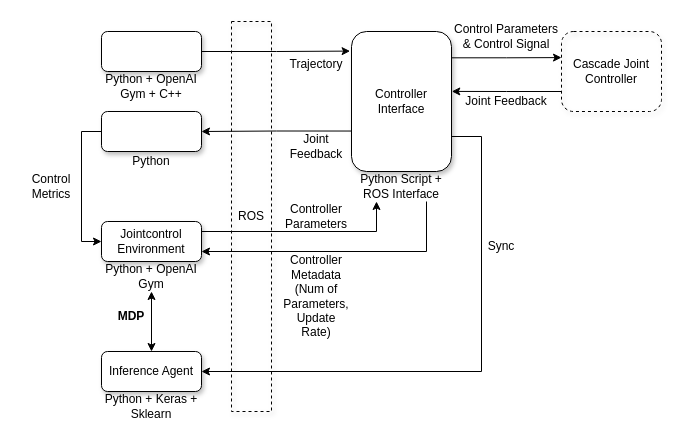
Image size: 685x446. Some labels were removed from this diagram. Each missing label, with the centre of its shape:
Control Metric Tracker: [152,132]
Trajectory Planning Model: [152,52]
